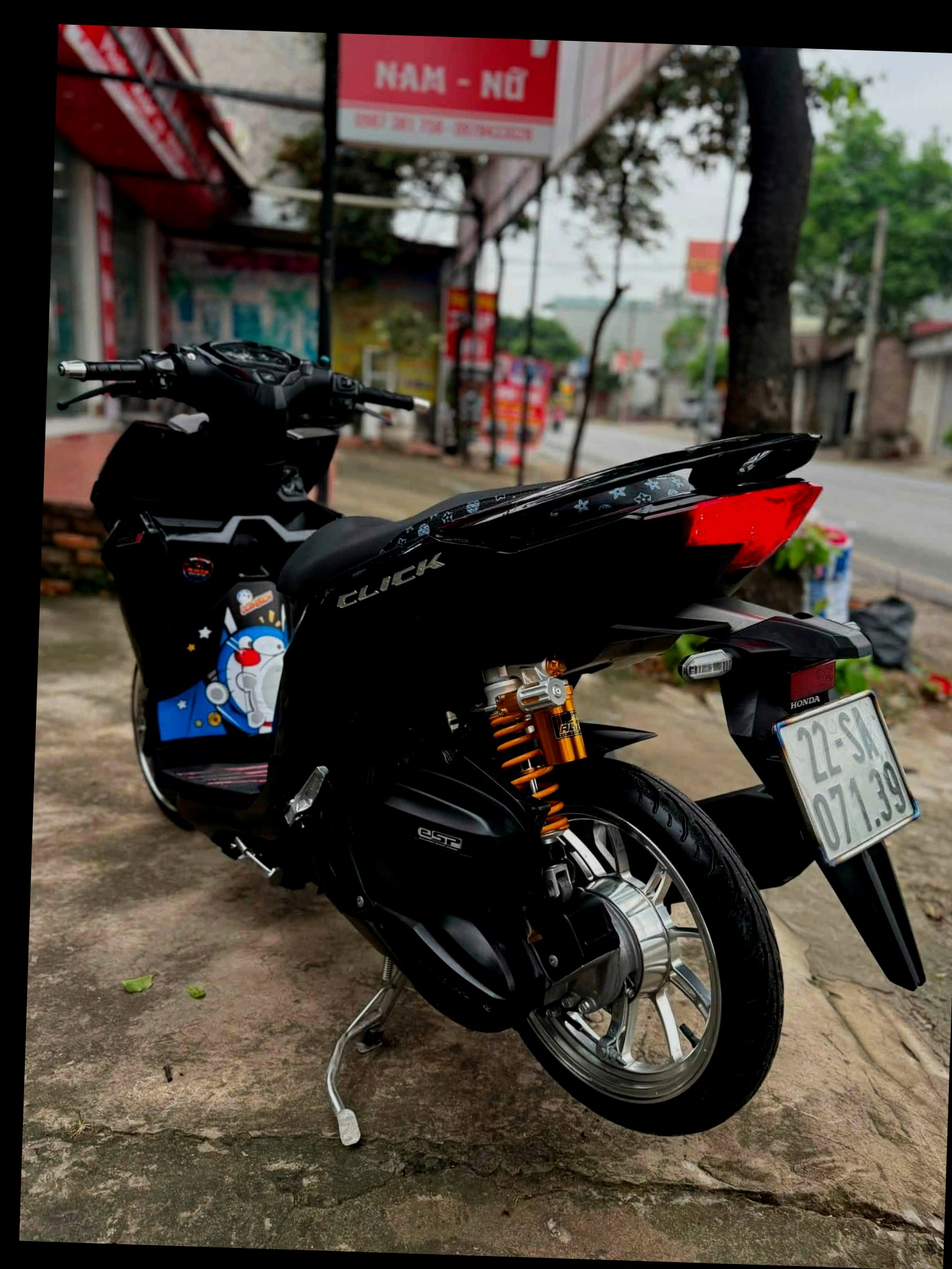Bien-so: (776, 685, 923, 872)
